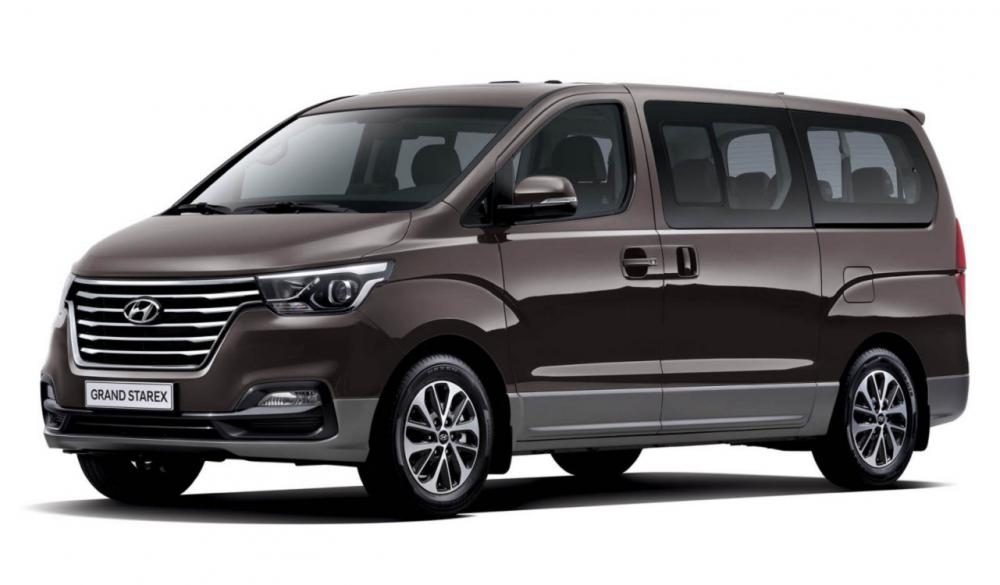van: (37, 78, 973, 521)
